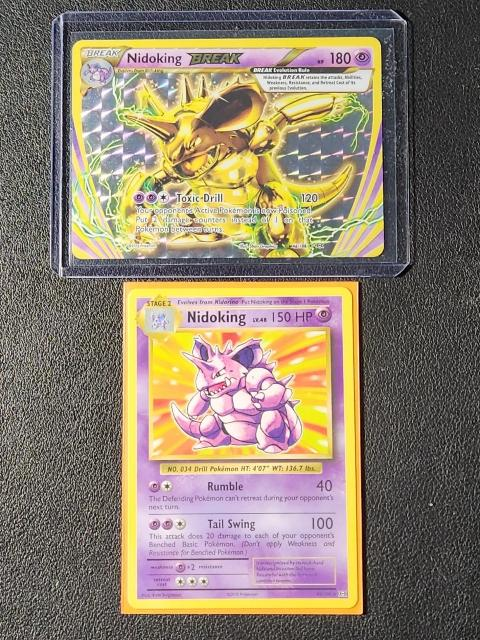Card: (120, 283, 364, 613), (67, 32, 391, 265)
Name: (124, 49, 247, 69), (182, 305, 252, 330)
